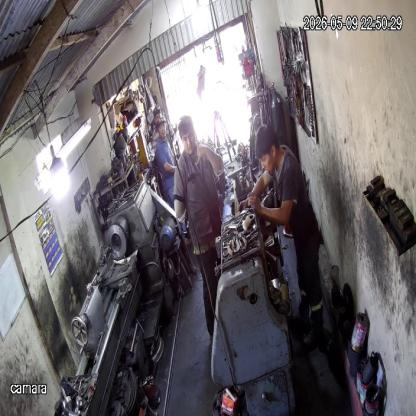sin_lentes: (180, 132, 194, 143)
